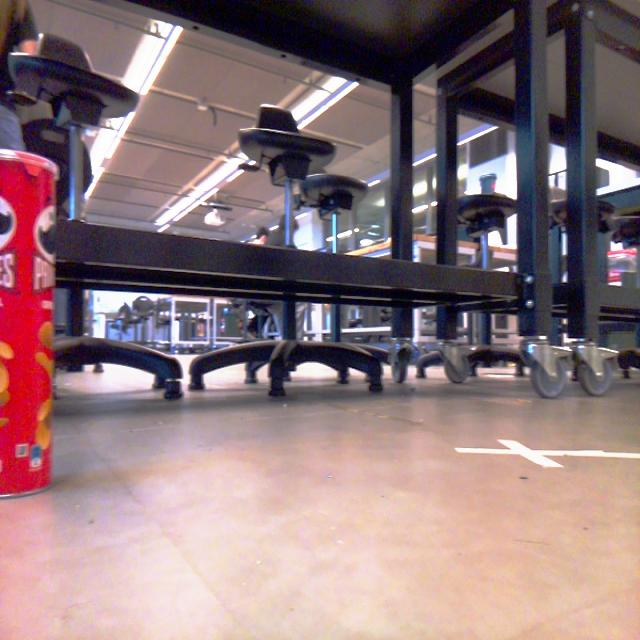redpringles: (0, 138, 83, 511)
